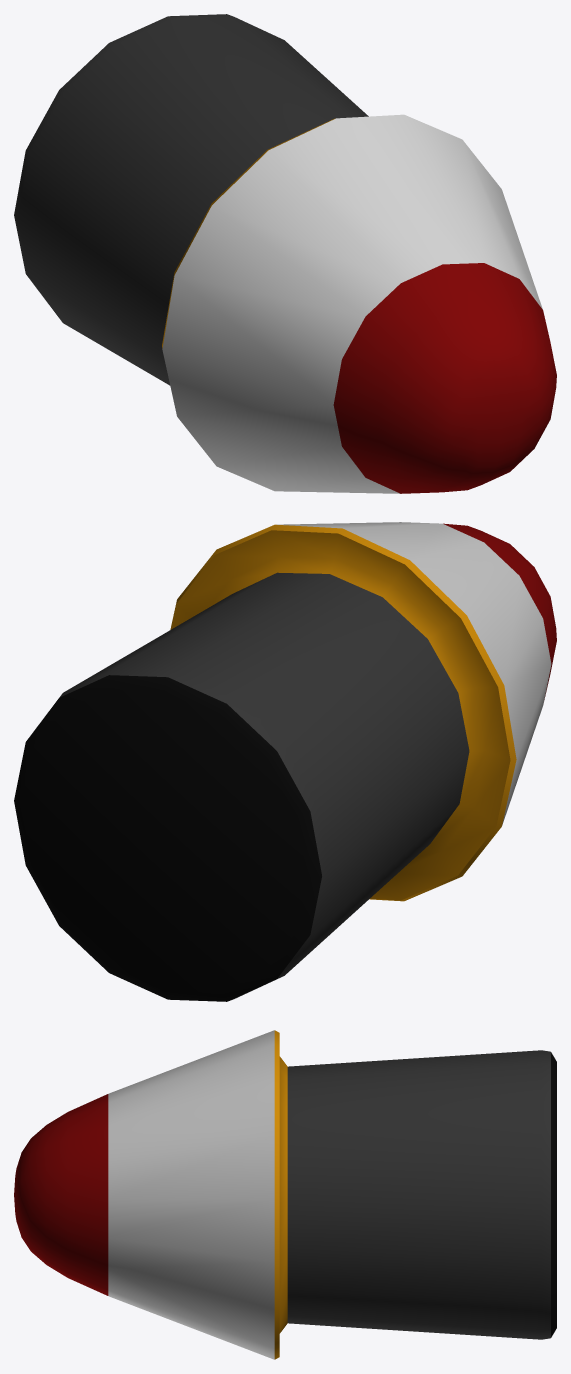
The model's file is Projectile.fbx.
The picture shows the model from 3 angles, top to bottom: view 1: azimuth 30°, elevation 25°; view 2: azimuth 150°, elevation 25°; view 3: azimuth 270°, elevation 25°; orthographic projection. The views are drawn at different scales.
Parts seen in each view (by area): view 1: Projectile_Mesh; view 2: Projectile_Mesh; view 3: Projectile_Mesh.
Boxes of the visible parts, x1,y1,x2,y2 form: Projectile_Mesh: (14,14,556,493); Projectile_Mesh: (14,522,556,1001); Projectile_Mesh: (14,1030,556,1359).
Bounding box in the file's own units: 9.99 × 9.99 × 16.46.
